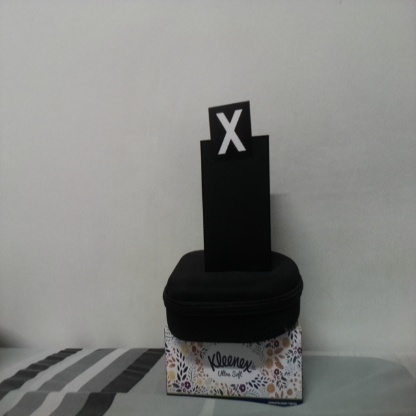id_13: (208, 106, 252, 163)
